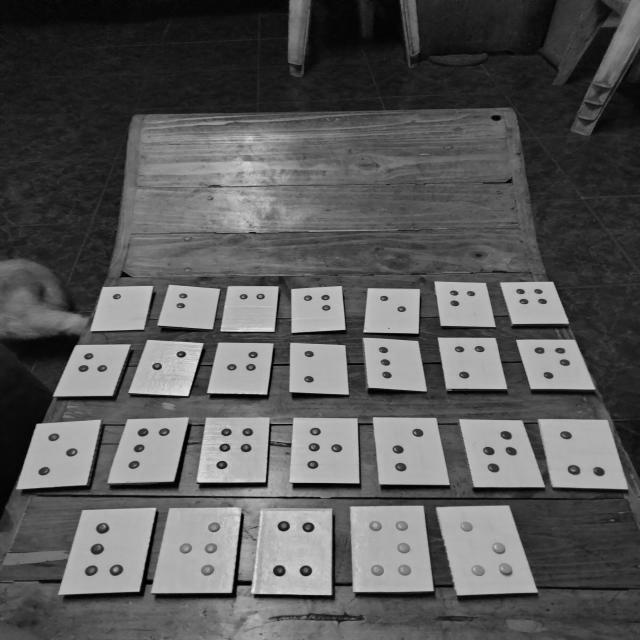braiile: (436, 506, 537, 596), (59, 508, 156, 594), (151, 508, 241, 593), (351, 506, 434, 592), (252, 509, 332, 595), (539, 420, 629, 489), (17, 420, 101, 489), (460, 420, 545, 487), (108, 418, 189, 483), (374, 418, 450, 485), (197, 418, 270, 482), (290, 418, 359, 483), (128, 340, 204, 396), (53, 345, 130, 396), (517, 340, 595, 389), (438, 338, 507, 389), (363, 338, 427, 391), (208, 343, 273, 394), (290, 343, 349, 394), (500, 282, 570, 324), (158, 285, 220, 329), (435, 282, 495, 326), (92, 287, 153, 330), (364, 288, 420, 333), (221, 287, 278, 331), (292, 286, 345, 333)
